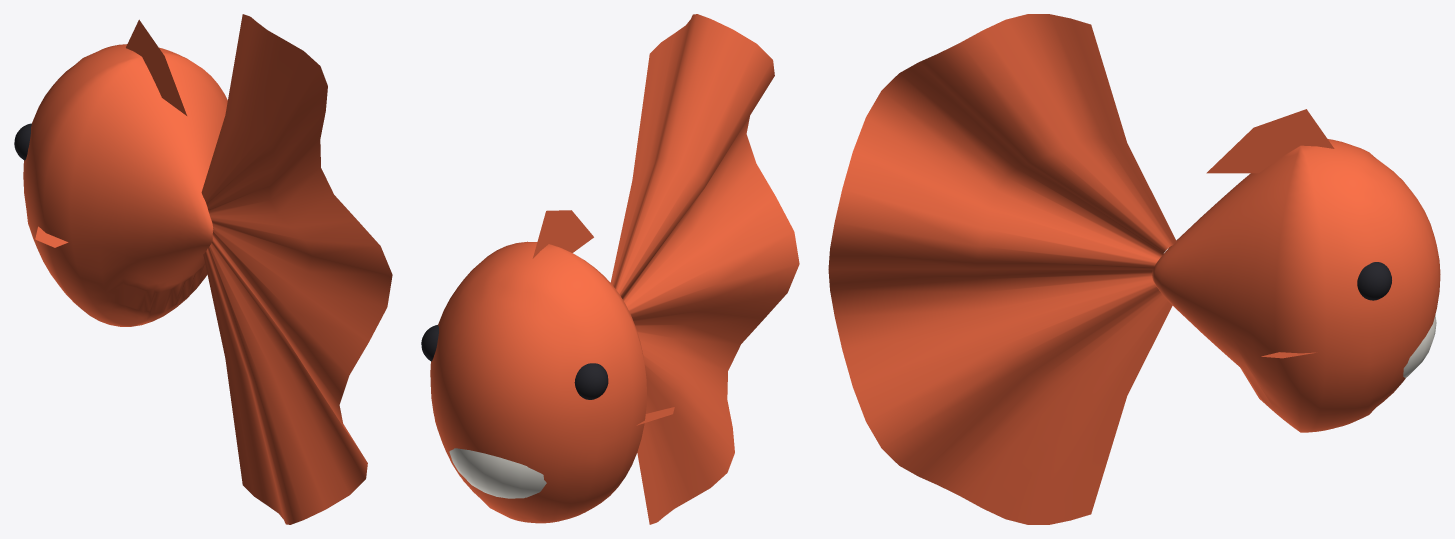
Rendered from chibi_goldfish.glb.
3 renders of one model, left to right at view 1: azimuth 30°, elevation 25°; view 2: azimuth 150°, elevation 25°; view 3: azimuth 270°, elevation 25°, orthographic. The views are drawn at different scales.
Visible parts, largest first — view 1: Caudal_Fantail, Body, Dorsal_Fin, Sphere.001; view 2: Caudal_Fantail, Body, Belly_Cream, Dorsal_Fin, Sphere.001, Sphere; view 3: Caudal_Fantail, Body, Dorsal_Fin, Sphere.
Part boxes in pixels (x1,y1,x2,y2): Caudal_Fantail: (201,14,392,524); Body: (23,44,227,326); Dorsal_Fin: (126,19,186,115); Sphere.001: (14,123,31,160); Caudal_Fantail: (610,14,799,524); Body: (430,241,646,523); Belly_Cream: (449,448,546,498); Dorsal_Fin: (532,210,593,258); Sphere.001: (574,363,608,399); Sphere: (421,325,438,361); Caudal_Fantail: (828,14,1176,524); Body: (1152,139,1440,432); Dorsal_Fin: (1206,109,1334,173); Sphere: (1357,262,1391,300).
Bounding box in the file's own units: 0.939 × 1.89 × 2.07.
